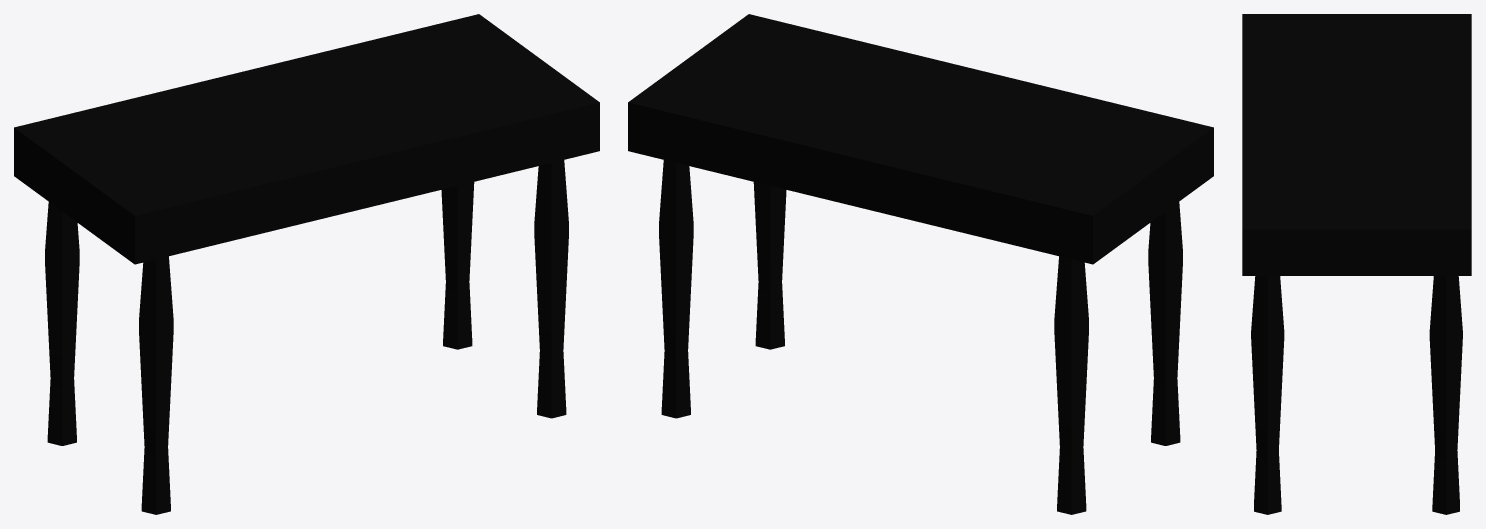
File: SM_piano_bench.fbx
3 renders of one model, left to right at view 1: azimuth 30°, elevation 25°; view 2: azimuth 150°, elevation 25°; view 3: azimuth 270°, elevation 25°, orthographic. The views are drawn at different scales.
Parts seen in each view (by area): view 1: piano_bench; view 2: piano_bench; view 3: piano_bench.
Boxes of the visible parts, x1=… form: piano_bench: x1=14, y1=14, x2=599, y2=514; piano_bench: x1=628, y1=14, x2=1213, y2=514; piano_bench: x1=1242, y1=14, x2=1471, y2=514.
Bounding box in the file's own units: 0.8 × 0.51 × 0.36.
